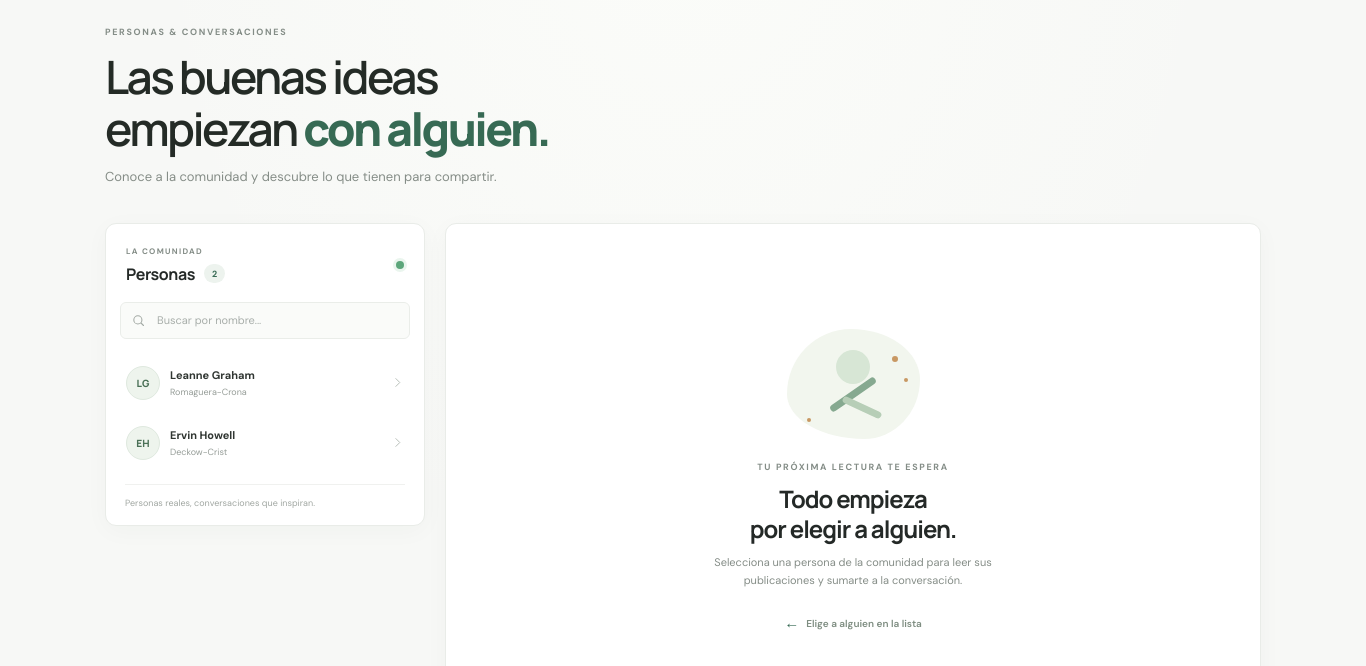
Test: Voces › valida los campos obligatorios y añade la publicación creada
Click the button "LG Leanne Graham Romaguera-Crona".
click(143, 383)  # box [116,354,414,412]
(page scrolled)
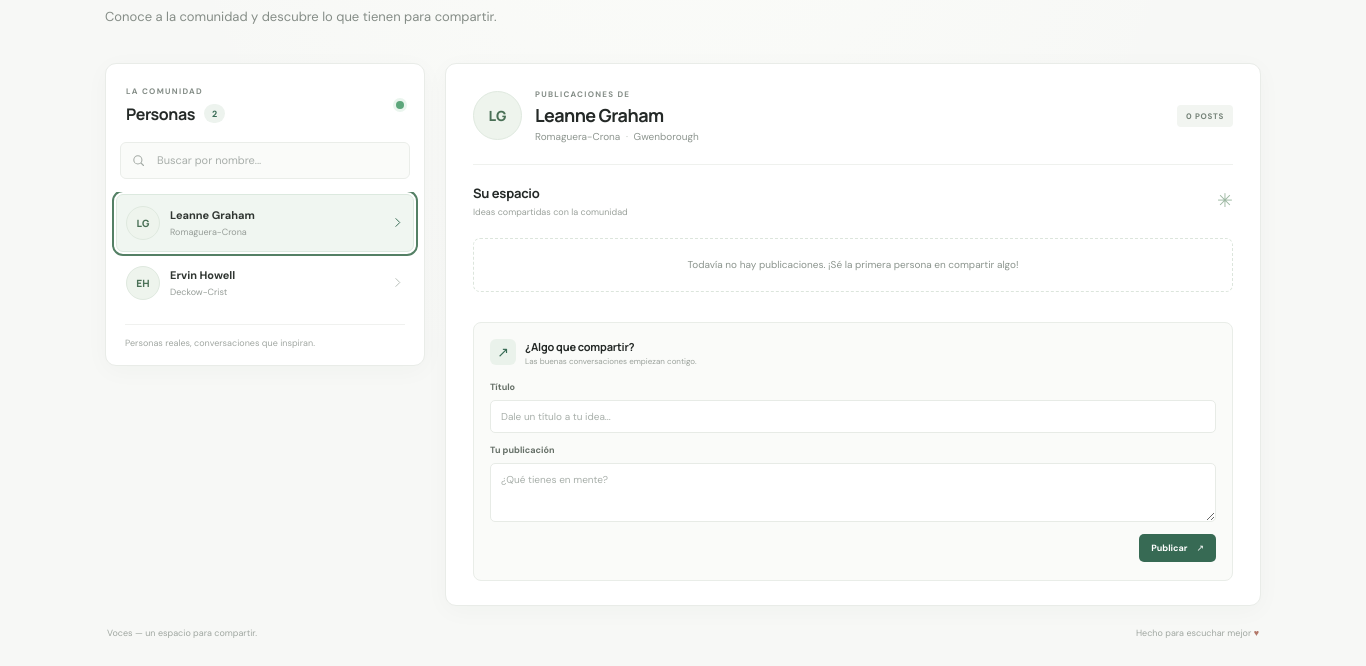
Result: the heading "¿Algo que compartir?" is shown at [525,339,634,354]
Click the button "Publicar ↗".
click(1178, 548)  # box [1139,534,1216,562]
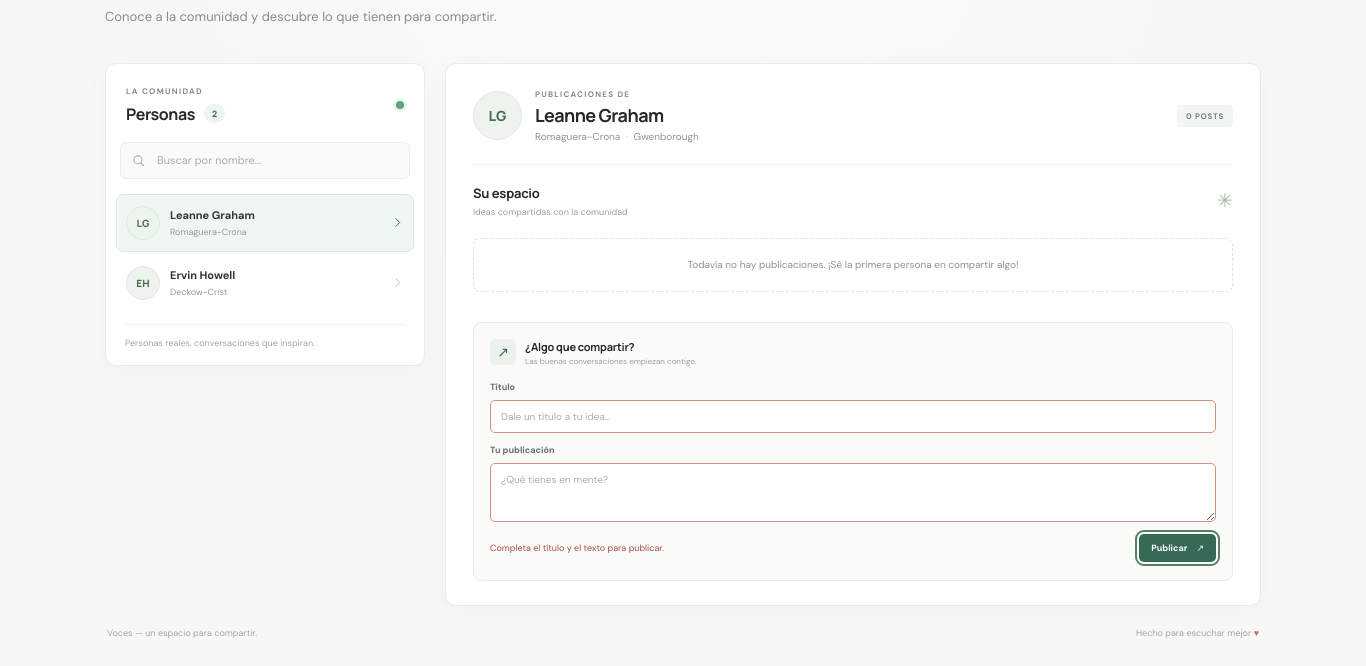
Result: the message reads "Completa el título y el texto para publicar." at [490,542,664,554]
Type "Mi nueva idea" into the field labelled "Título".
click(853, 416); type("Mi nueva idea")  # box [490,400,1216,433]
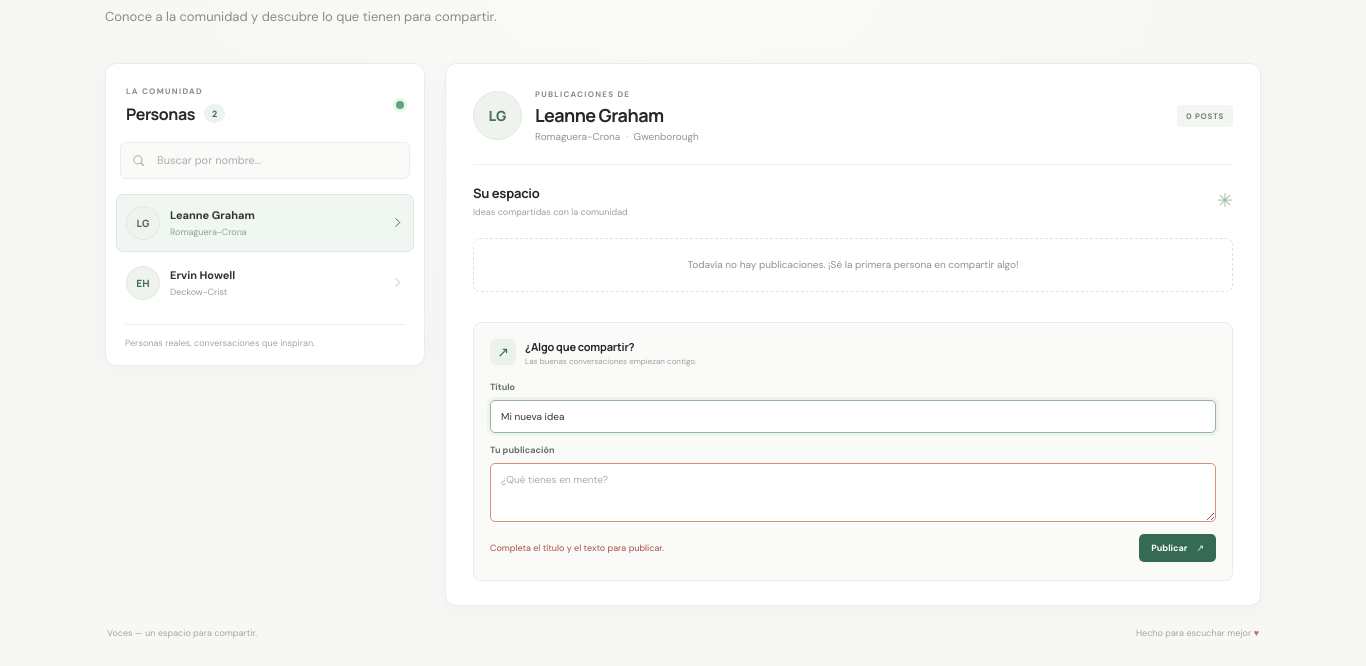
Type "Una conversación empieza aquí." into the text box labelled "Tu publicación".
click(853, 492); type("Una conversación empieza aquí.")  # box [490,463,1216,522]
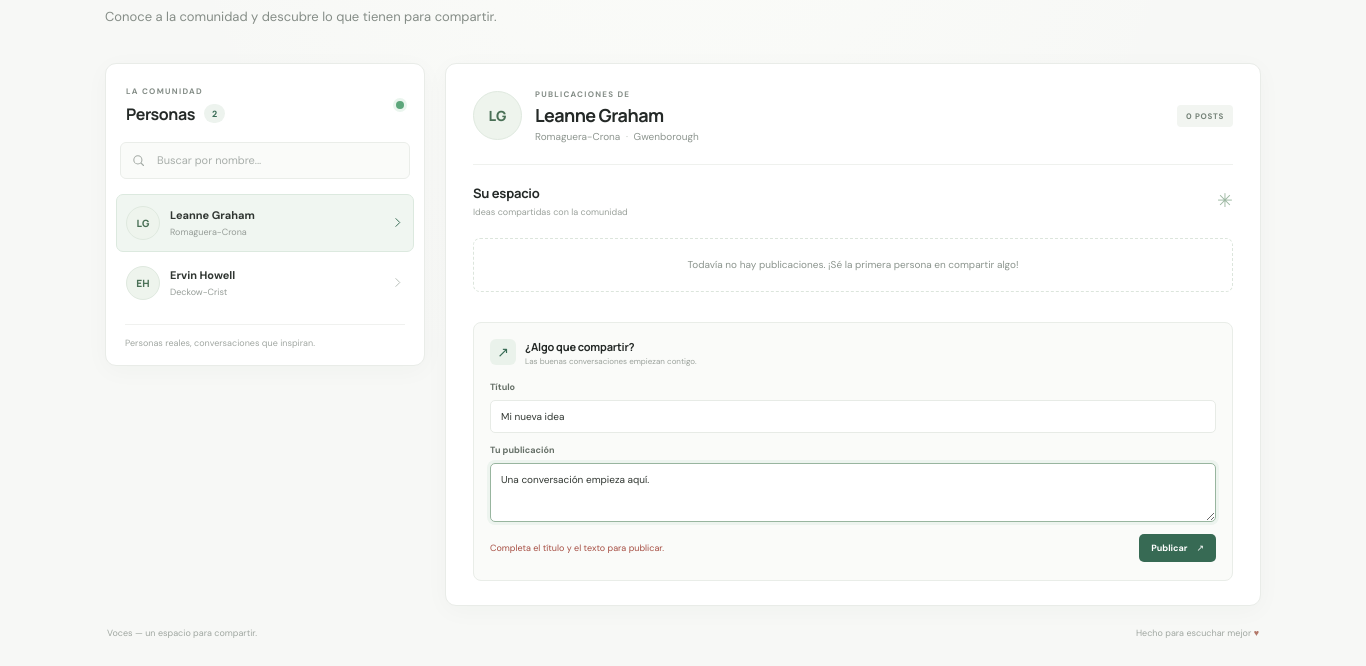
Click the button "Publicar ↗".
click(1178, 548)  # box [1139,534,1216,562]
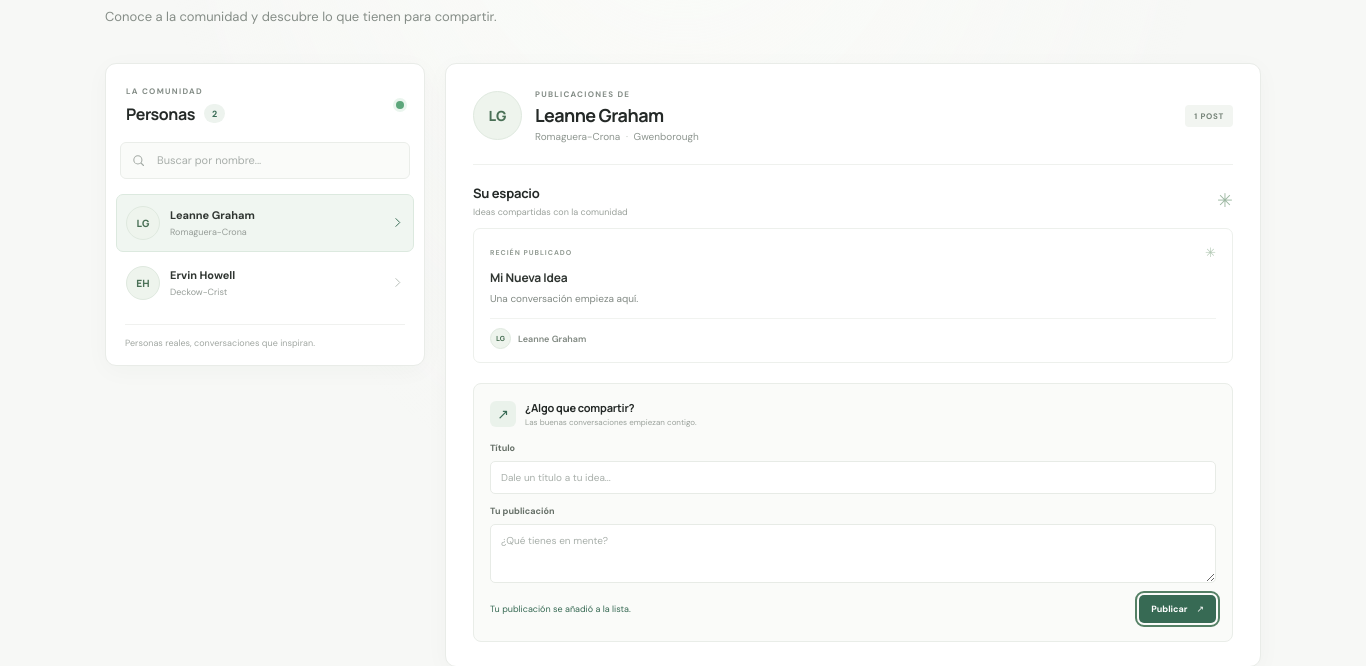
Result: the heading "Mi nueva idea" is shown at [490,269,568,286]
Result: the text "Una conversación empieza aquí." is shown at [490,292,638,305]
